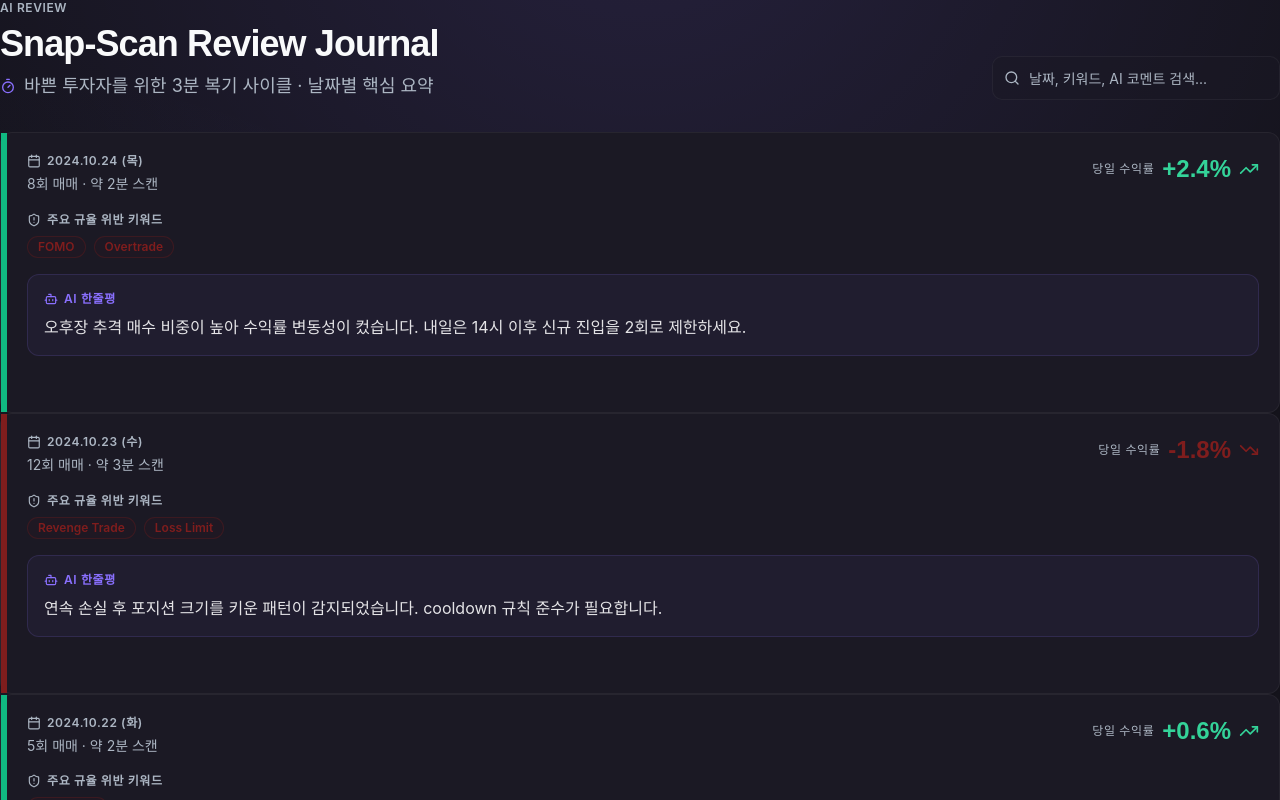
Test: ReviewsView › 검색 결과가 없으면 empty state를 표시해야 합니다.
In the field with test id "review-search-input": (1136,78) [992, 56, 1279, 100], type "zzzz-not-found"
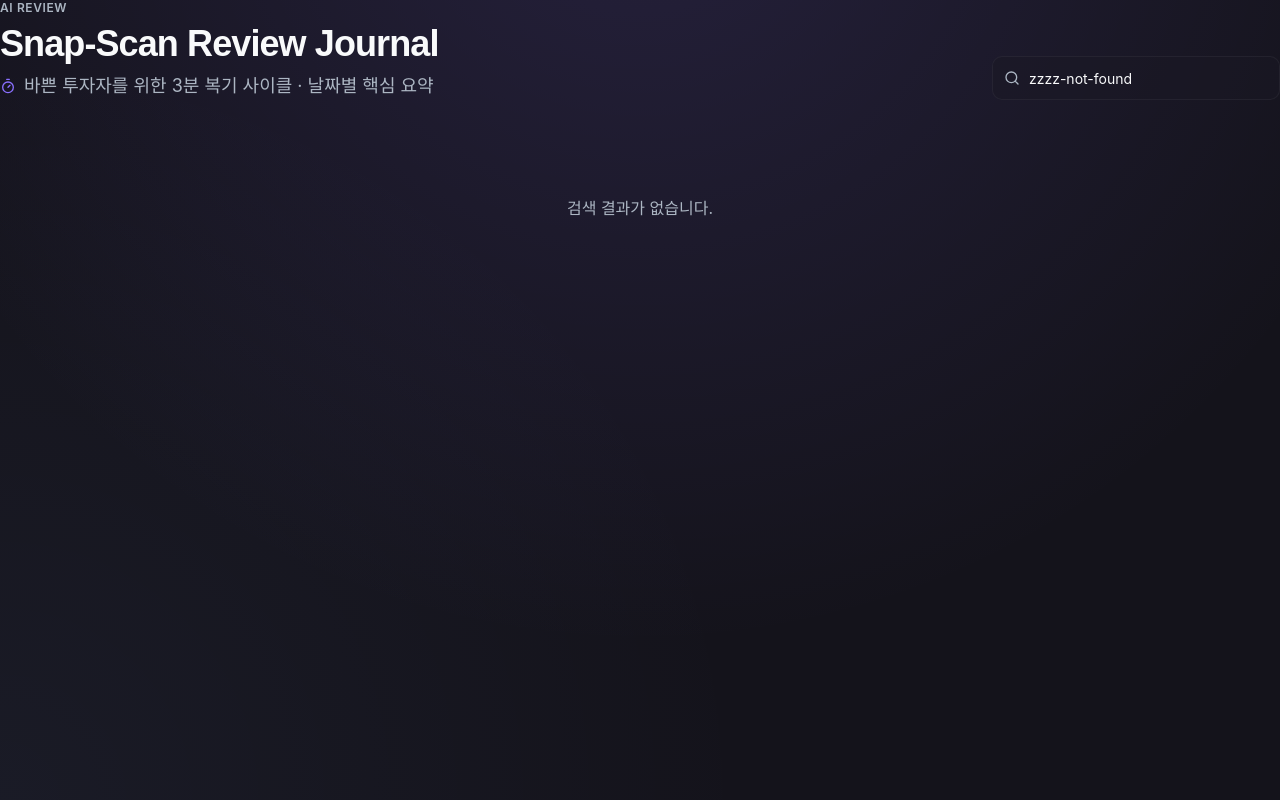
Expected: the text "검색 결과가 없습니다." is shown, [567, 198, 713, 218]
